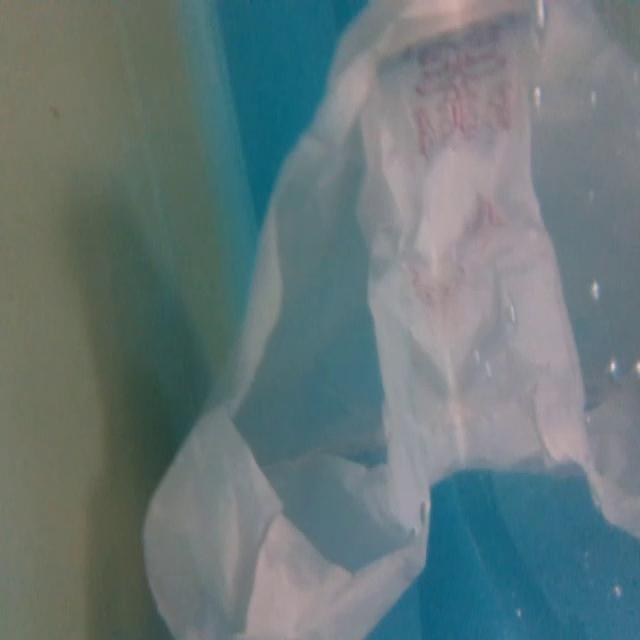plastic bags: (136, 1, 640, 640)
